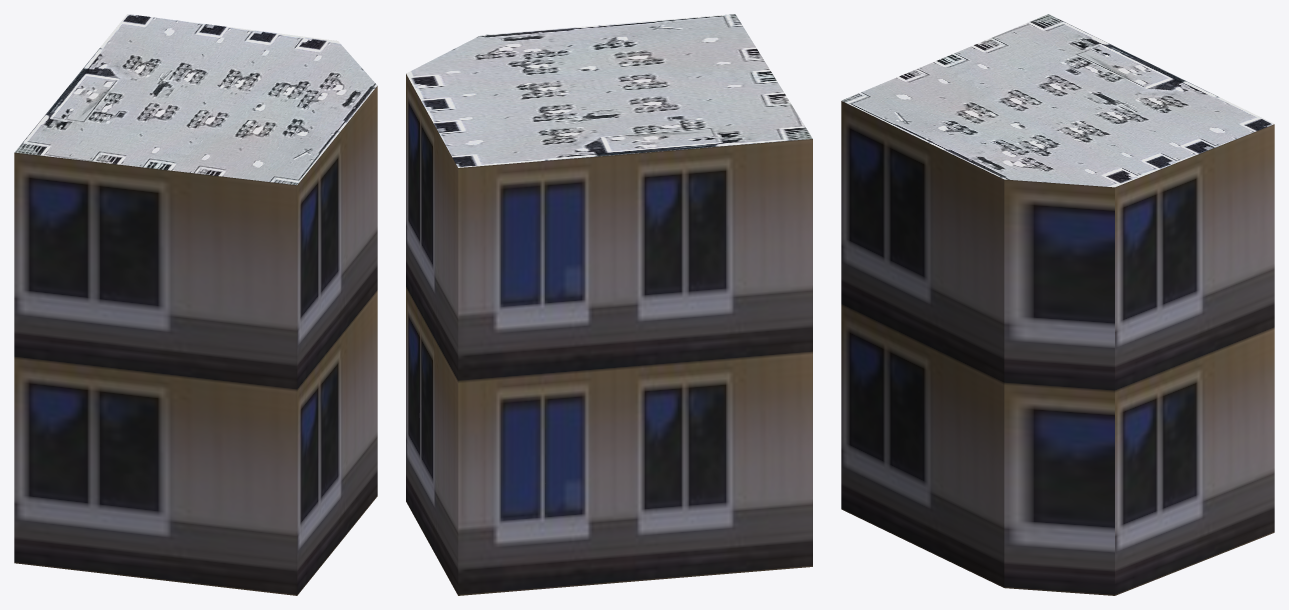
The model's file is ResTex__4149.fbx.
3 views of the same model, side by side, from view 1: azimuth 30°, elevation 25°; view 2: azimuth 150°, elevation 25°; view 3: azimuth 270°, elevation 25° (orthographic). The views are drawn at different scales.
Visible parts, largest first — view 1: CityEngineMaterial_5_m, CityEngineMaterial_4_m; view 2: CityEngineMaterial_5_m, CityEngineMaterial_4_m; view 3: CityEngineMaterial_5_m, CityEngineMaterial_4_m.
Part boxes in pixels (left/top/right/bottom): CityEngineMaterial_5_m: left=14, top=86, right=377, bottom=595; CityEngineMaterial_4_m: left=14, top=14, right=377, bottom=185; CityEngineMaterial_5_m: left=406, top=74, right=812, bottom=595; CityEngineMaterial_4_m: left=406, top=14, right=812, bottom=167; CityEngineMaterial_5_m: left=841, top=101, right=1274, bottom=595; CityEngineMaterial_4_m: left=841, top=14, right=1274, bottom=187.
Bounding box in the file's own units: 5.46 × 6 × 5.77.
2 materials, 2 textured.
